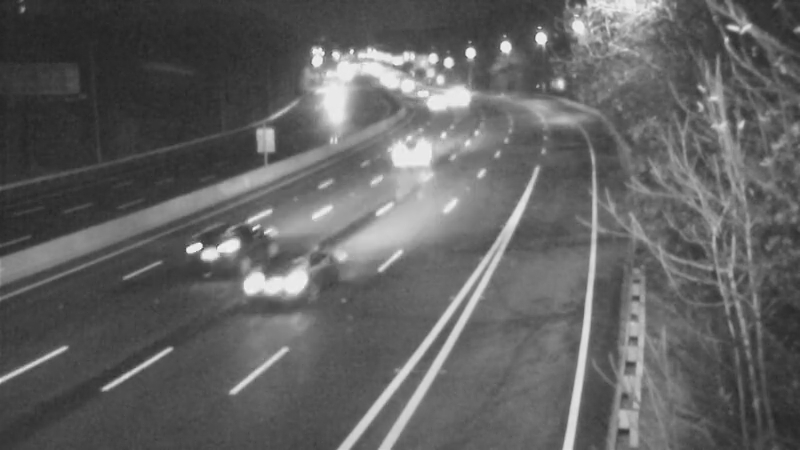vehicle: (181, 202, 261, 282), (249, 234, 329, 314), (410, 78, 460, 128), (389, 121, 439, 171)
